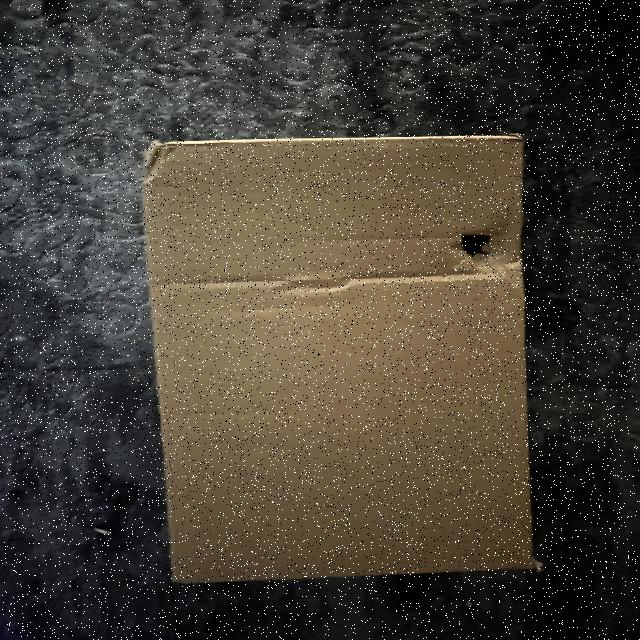damaged: (144, 125, 549, 588), (447, 202, 531, 306), (136, 136, 182, 184)
